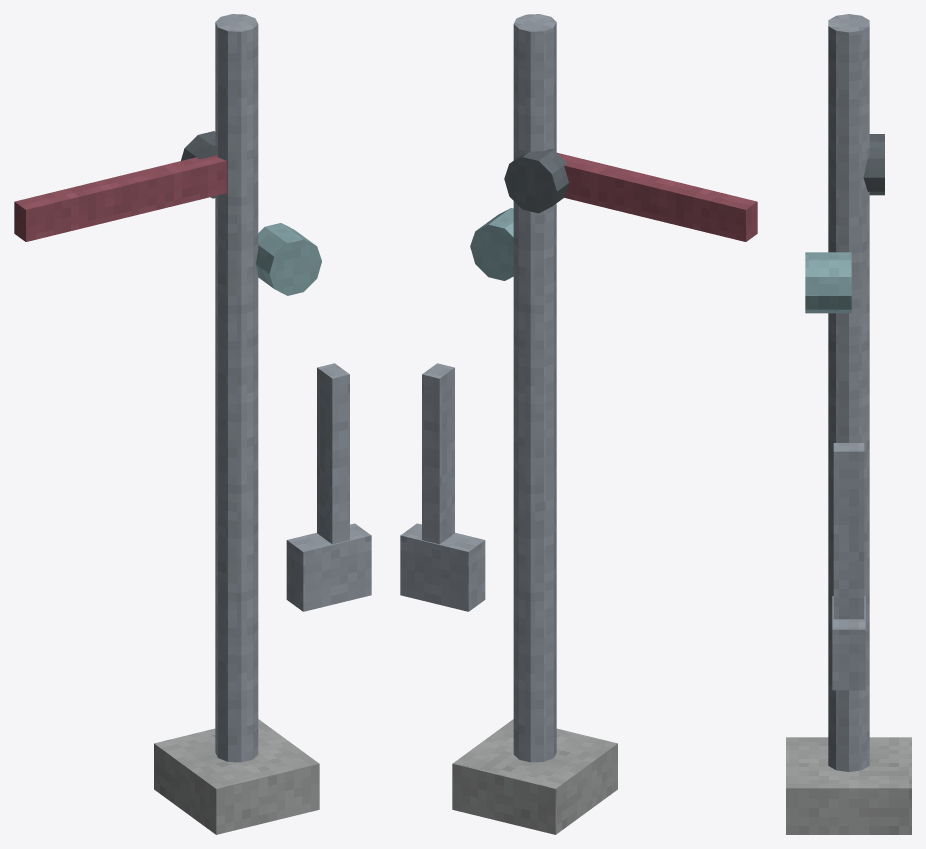
Rendered from level_blockout_refined_rail_mechanical_semaphore.glb.
3 views of the same model, side by side, from view 1: azimuth 30°, elevation 25°; view 2: azimuth 150°, elevation 25°; view 3: azimuth 270°, elevation 25° (orthographic).
Parts seen in each view (by area): view 1: level_blockout_refined_rail_mechanical_semaphore; view 2: level_blockout_refined_rail_mechanical_semaphore; view 3: level_blockout_refined_rail_mechanical_semaphore.
Part boxes in pixels (bbox=[...]): level_blockout_refined_rail_mechanical_semaphore: bbox=[14, 14, 371, 834]; level_blockout_refined_rail_mechanical_semaphore: bbox=[400, 14, 757, 834]; level_blockout_refined_rail_mechanical_semaphore: bbox=[786, 14, 911, 834].
Bounding box in the file's own units: 1.56 × 3.38 × 0.49.
Materials: 5 (5 with a texture image).
